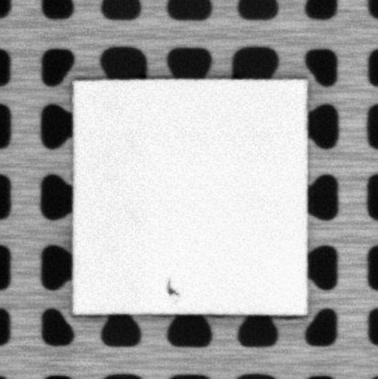DIE_INK: (163, 278, 179, 297)
